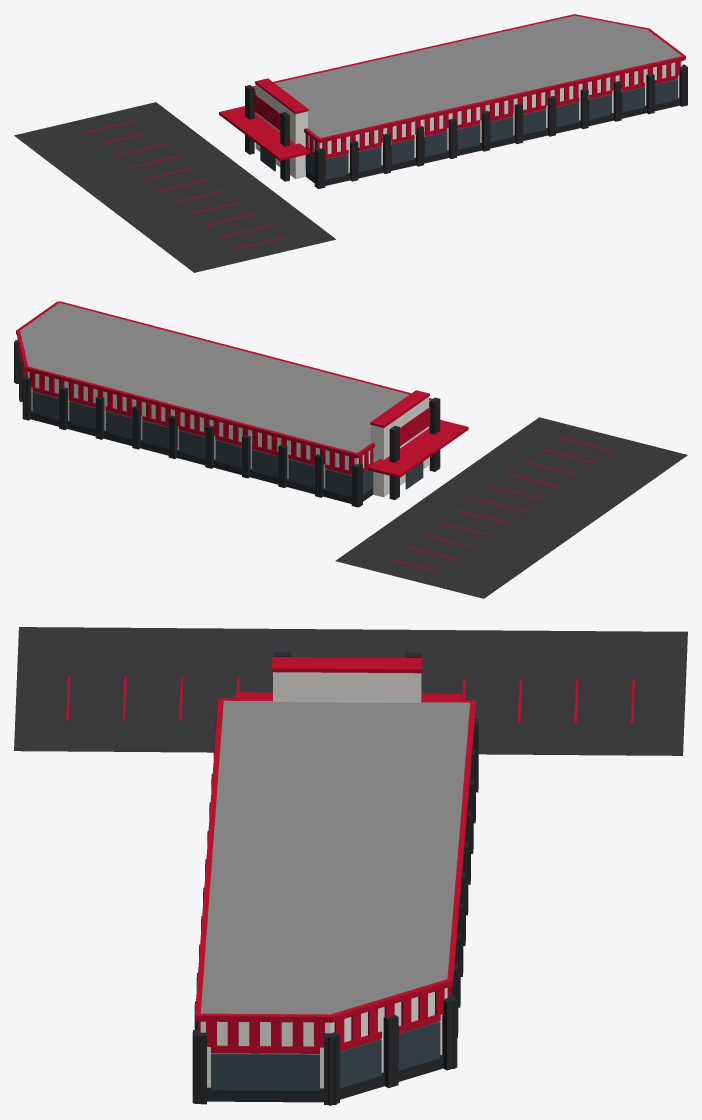
The model's file is kfc5.glb.
The picture shows the model from 3 angles, top to bottom: view 1: azimuth 30°, elevation 25°; view 2: azimuth 150°, elevation 25°; view 3: azimuth 270°, elevation 25°; orthographic projection. The views are drawn at different scales.
Visible parts, largest first — view 1: kfc5_lod0; view 2: kfc5_lod0; view 3: kfc5_lod0.
Boxes of the visible parts, left/top/right/bottom form: kfc5_lod0: left=14, top=14, right=687, bottom=272; kfc5_lod0: left=14, top=301, right=687, bottom=598; kfc5_lod0: left=14, top=627, right=687, bottom=1105.
Size of what is drawn, in the model's own units: 54.15 by 6.4 by 32.23.
